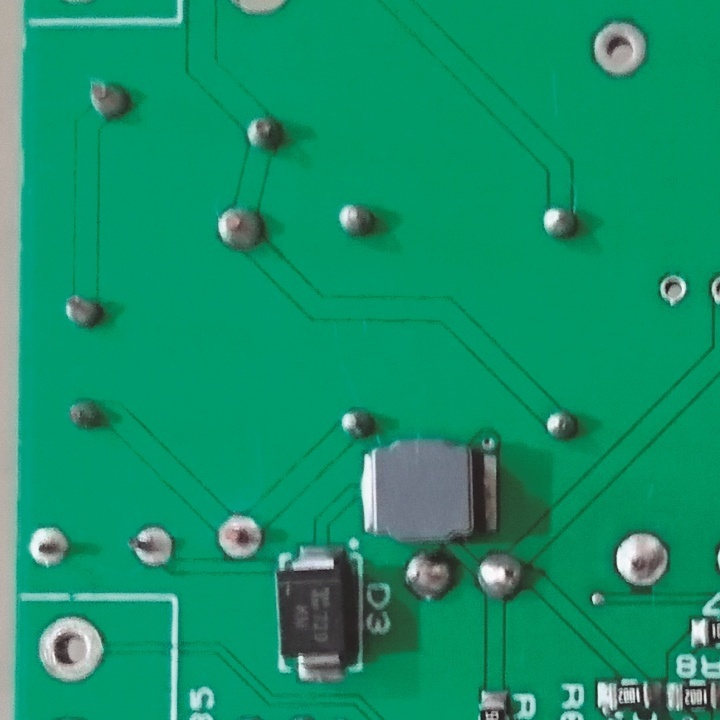F: (36, 616, 109, 683), (612, 531, 675, 592), (589, 15, 648, 80), (212, 513, 266, 565), (124, 525, 177, 575), (26, 523, 70, 570), (656, 272, 690, 309)
